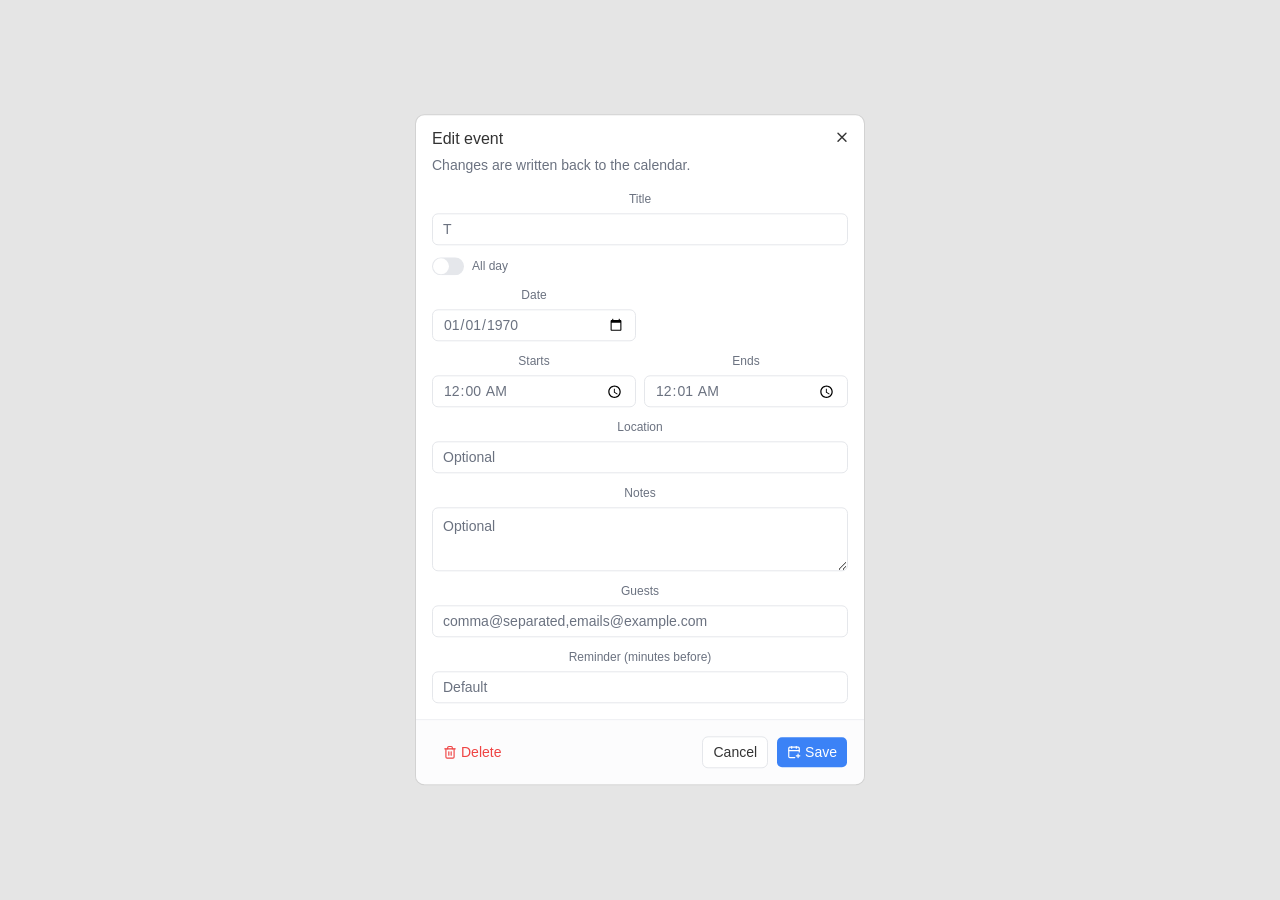
Test: EventDialog failure paths (online-write surfacing) › surfaces a provider failure on delete and keeps the dialog open
This screenshot has width=1280, height=900.
Click the button with test id "event-dialog-delete" at (472, 753), box left=432, top=737, right=512, bottom=769
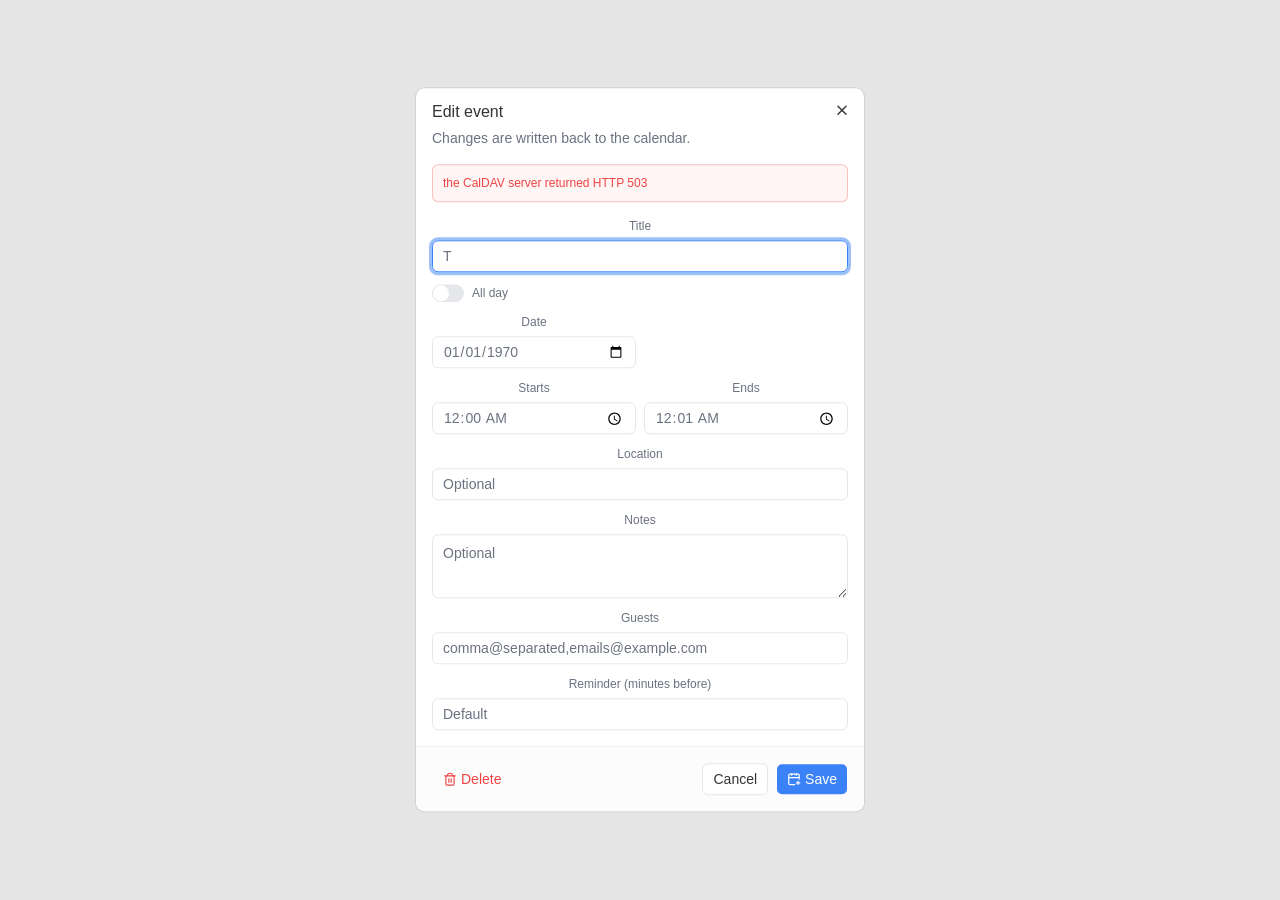
Expected: the message with test id "event-dialog-error" shows "HTTP 503", left=443, top=176, right=647, bottom=190
